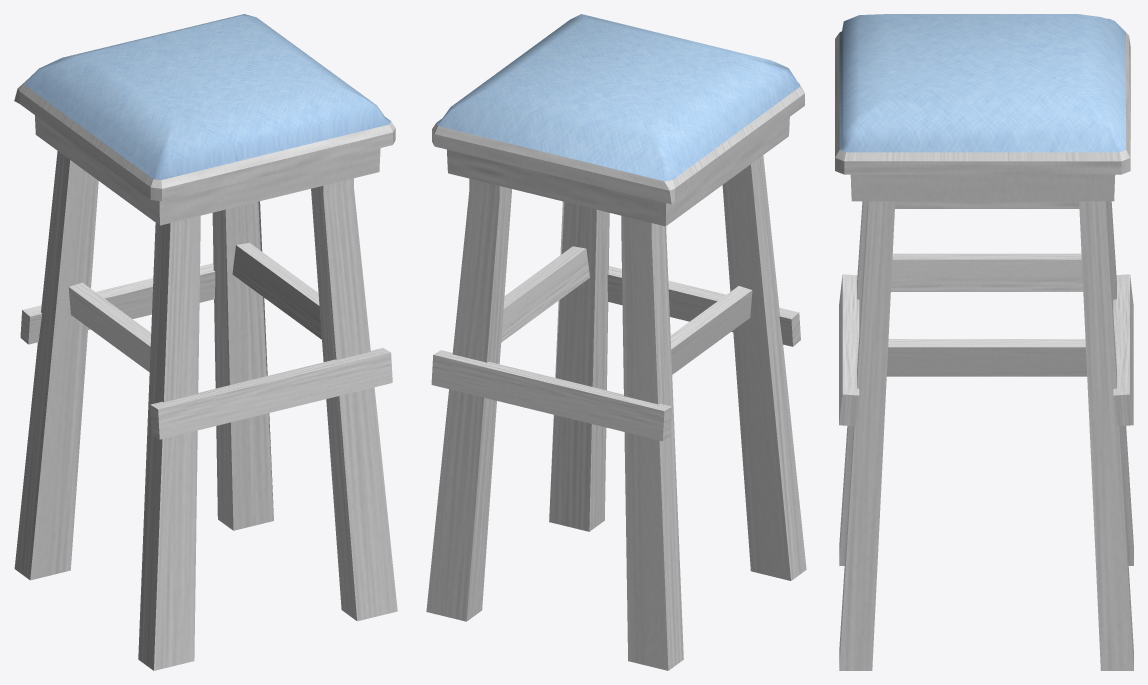
Rendered from Barstool_C_2.FBX.
3 renders of one model, left to right at view 1: azimuth 30°, elevation 25°; view 2: azimuth 150°, elevation 25°; view 3: azimuth 270°, elevation 25°, orthographic. The views are drawn at different scales.
Parts seen in each view (by area): view 1: Bar_Stool; view 2: Bar_Stool; view 3: Bar_Stool.
Part boxes in pixels (left/top/right/bottom): Bar_Stool: left=14, top=14, right=397, bottom=670; Bar_Stool: left=426, top=14, right=806, bottom=670; Bar_Stool: left=835, top=14, right=1133, bottom=670.
Bounding box in the file's own units: 85.32 × 174 × 84.9.
